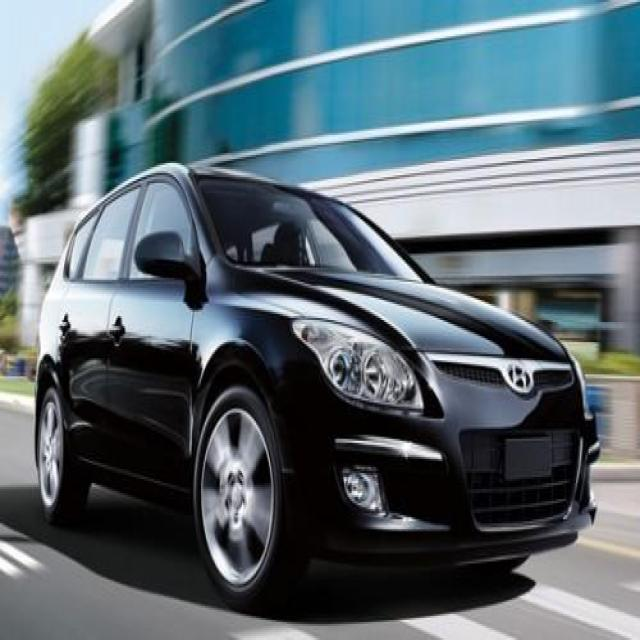Car: (18, 149, 606, 594)
